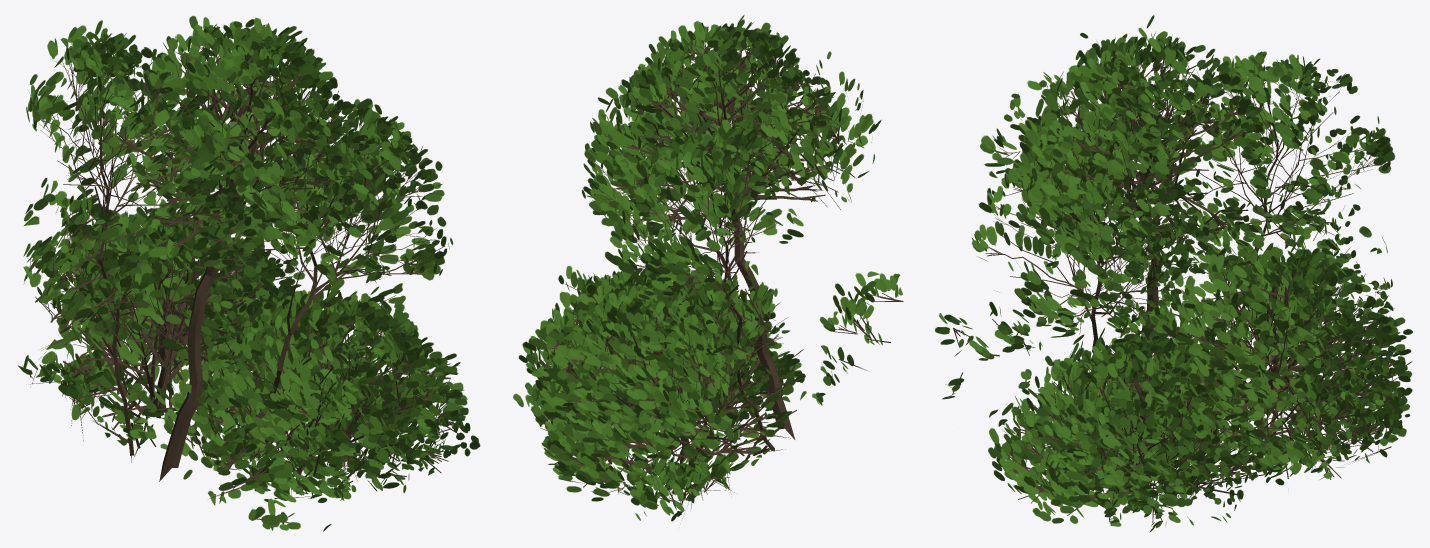
The picture shows the model from 3 angles, left to right: view 1: azimuth 30°, elevation 25°; view 2: azimuth 150°, elevation 25°; view 3: azimuth 270°, elevation 25°; orthographic projection. The views are drawn at different scales.
Parts seen in each view (by area): view 1: oak 01.001_trunk_Mat.001_0.270; view 2: oak 01.001_trunk_Mat.001_0.270; view 3: oak 01.001_trunk_Mat.001_0.270.
Boxes of the visible parts, x1=… form: oak 01.001_trunk_Mat.001_0.270: x1=18, y1=15, x2=480, y2=531; oak 01.001_trunk_Mat.001_0.270: x1=513, y1=15, x2=903, y2=521; oak 01.001_trunk_Mat.001_0.270: x1=935, y1=15, x2=1412, y2=532.
Bounding box in the file's own units: 3.59 × 4.79 × 4.88.
2 materials, 1 textured.
